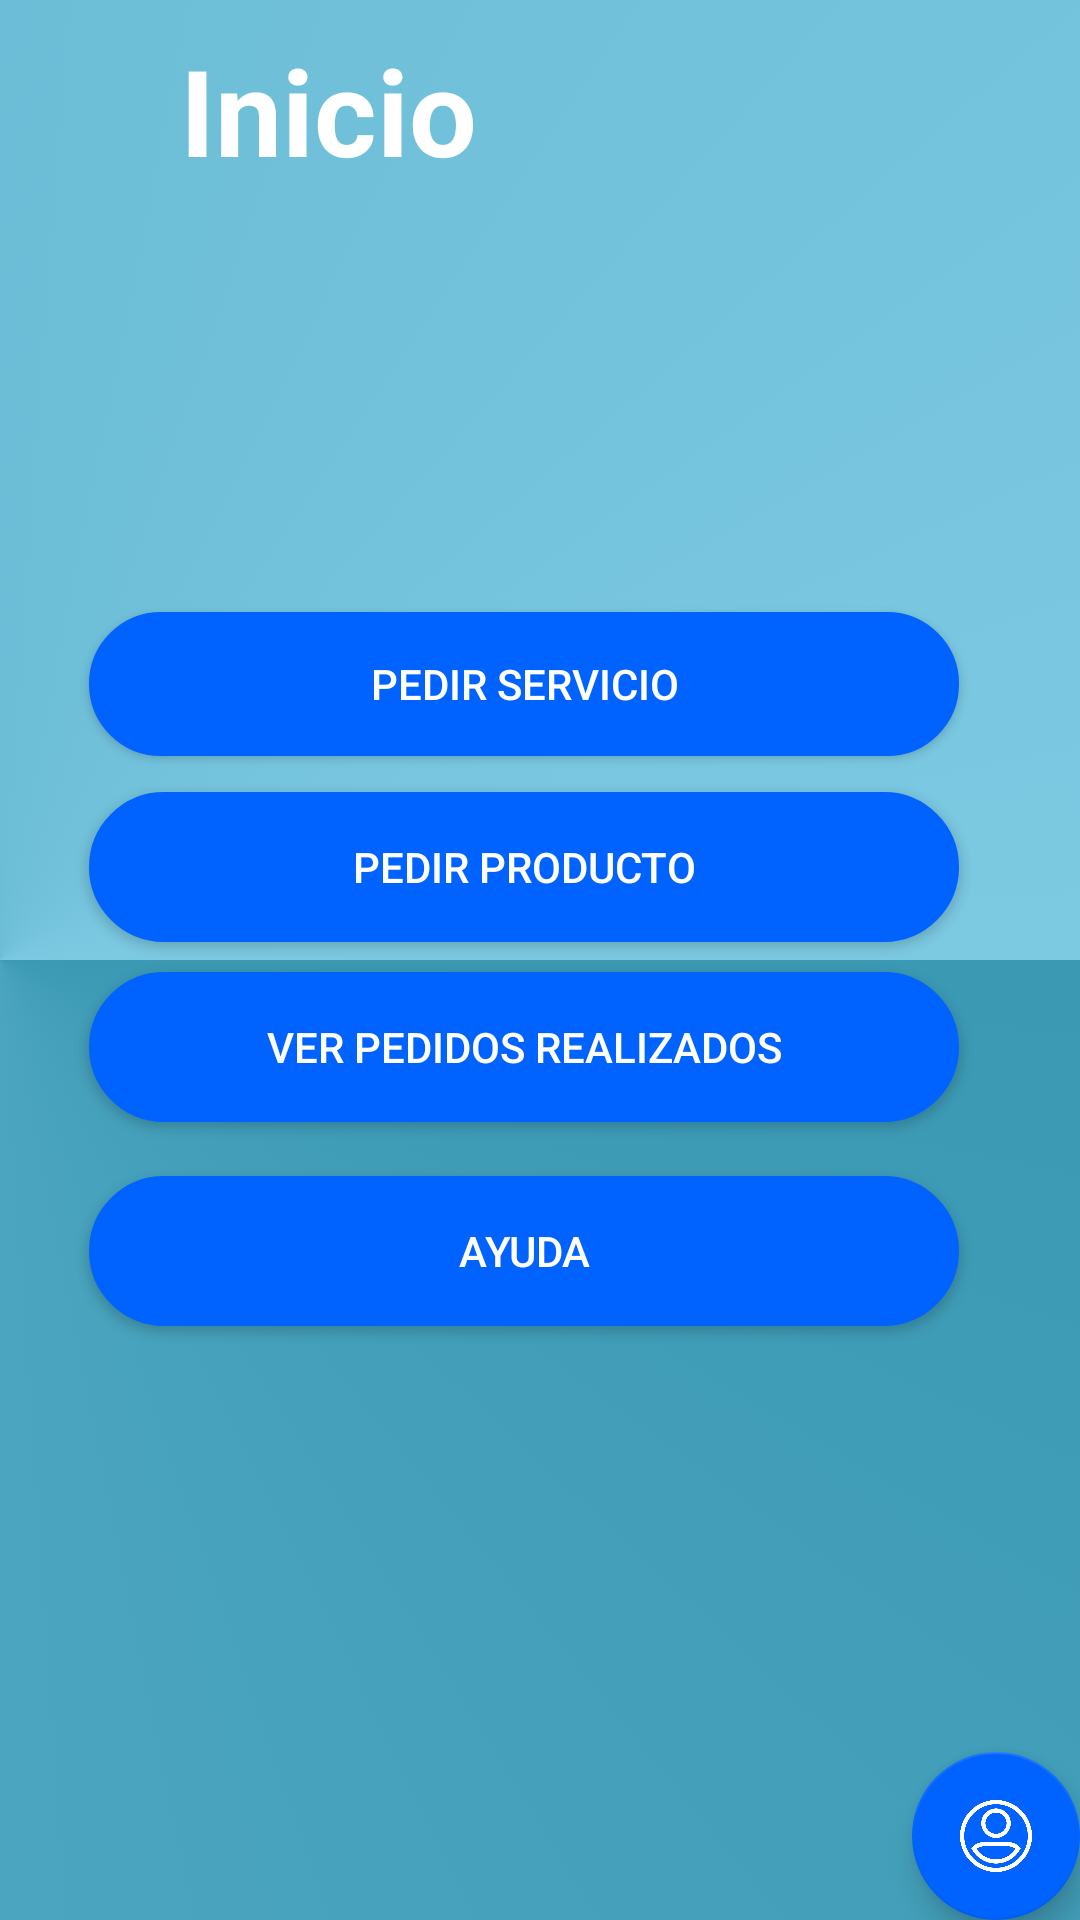

Screen size 1080 × 1920. Icon name, then its center in pixels as (x=x, y=y):
user: (x=996, y=1836)
